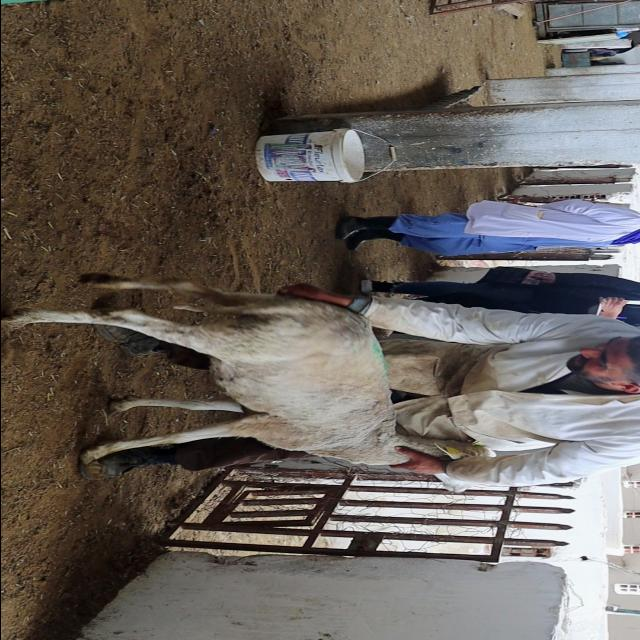Score_1: (1, 274, 401, 464)
